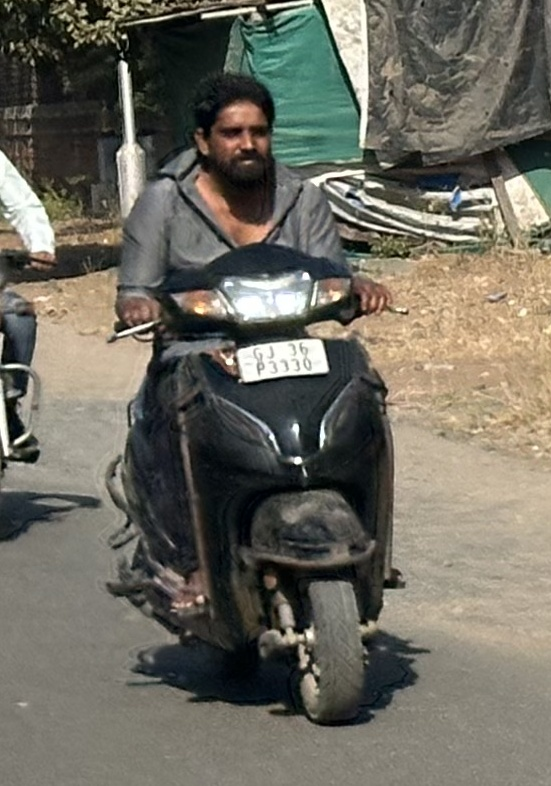BikeWithRider: (89, 62, 420, 731)
NoHelmet: (177, 64, 290, 191)
